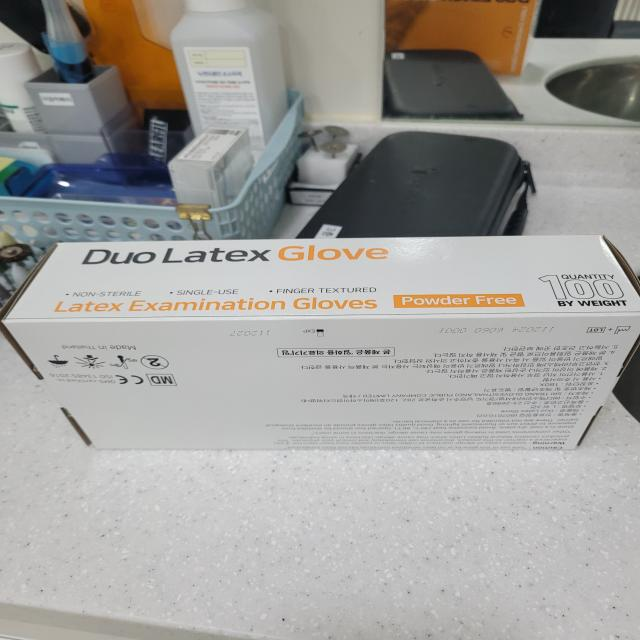glove: (4, 224, 640, 489)
